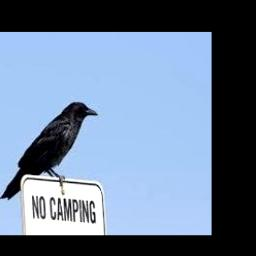Crow: (0, 101, 98, 200)
